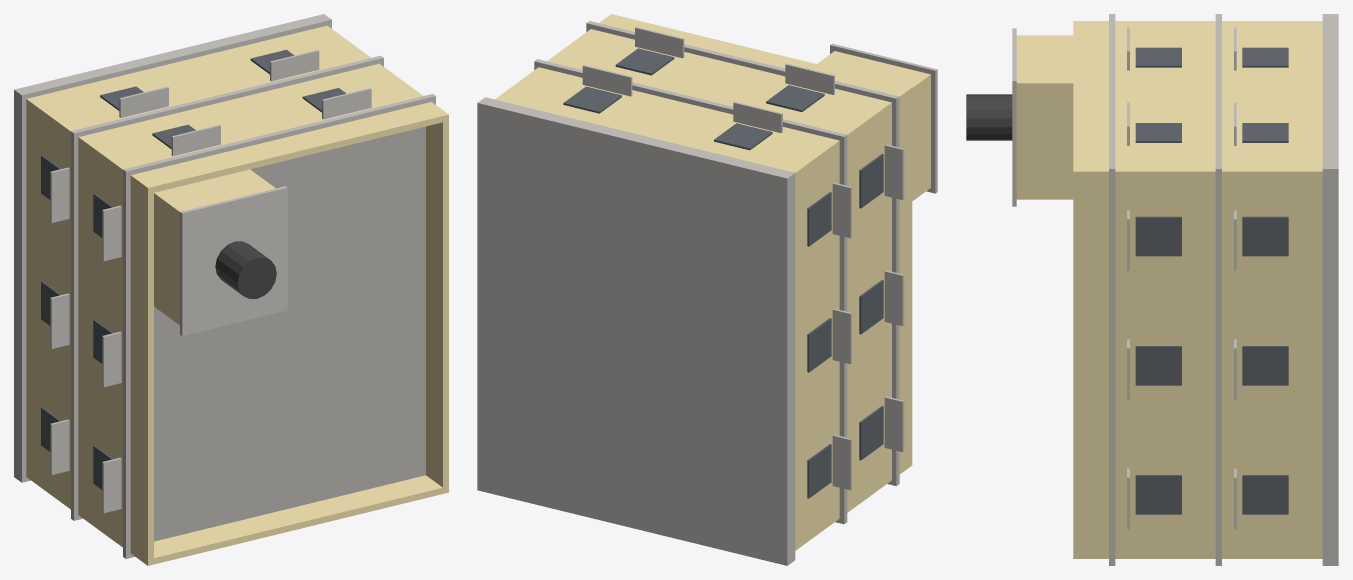
The model's file is house_2f_yellow_shop.glb.
The picture shows the model from 3 angles, left to right: view 1: azimuth 30°, elevation 25°; view 2: azimuth 150°, elevation 25°; view 3: azimuth 270°, elevation 25°; orthographic projection. The views are drawn at different scales.
Parts seen in each view (by area): view 1: yellow, roof, concrete, glass, tank; view 2: concrete, yellow, glass; view 3: yellow, concrete, glass, tank.
Boxes of the visible parts, box(x1,y1,x2,y2) form: yellow: box(26, 25, 448, 565); roof: box(154, 126, 425, 541); concrete: box(14, 14, 435, 558); glass: box(41, 49, 345, 489); tank: box(215, 241, 276, 298); concrete: box(477, 21, 937, 565); yellow: box(495, 14, 930, 550); glass: box(563, 48, 883, 498); yellow: box(1016, 21, 1322, 558); concrete: box(1012, 14, 1338, 565); glass: box(1135, 47, 1288, 514); tank: box(966, 94, 1012, 140).
Size of the model in its own units: 11.2 by 13.2 by 10.45.
